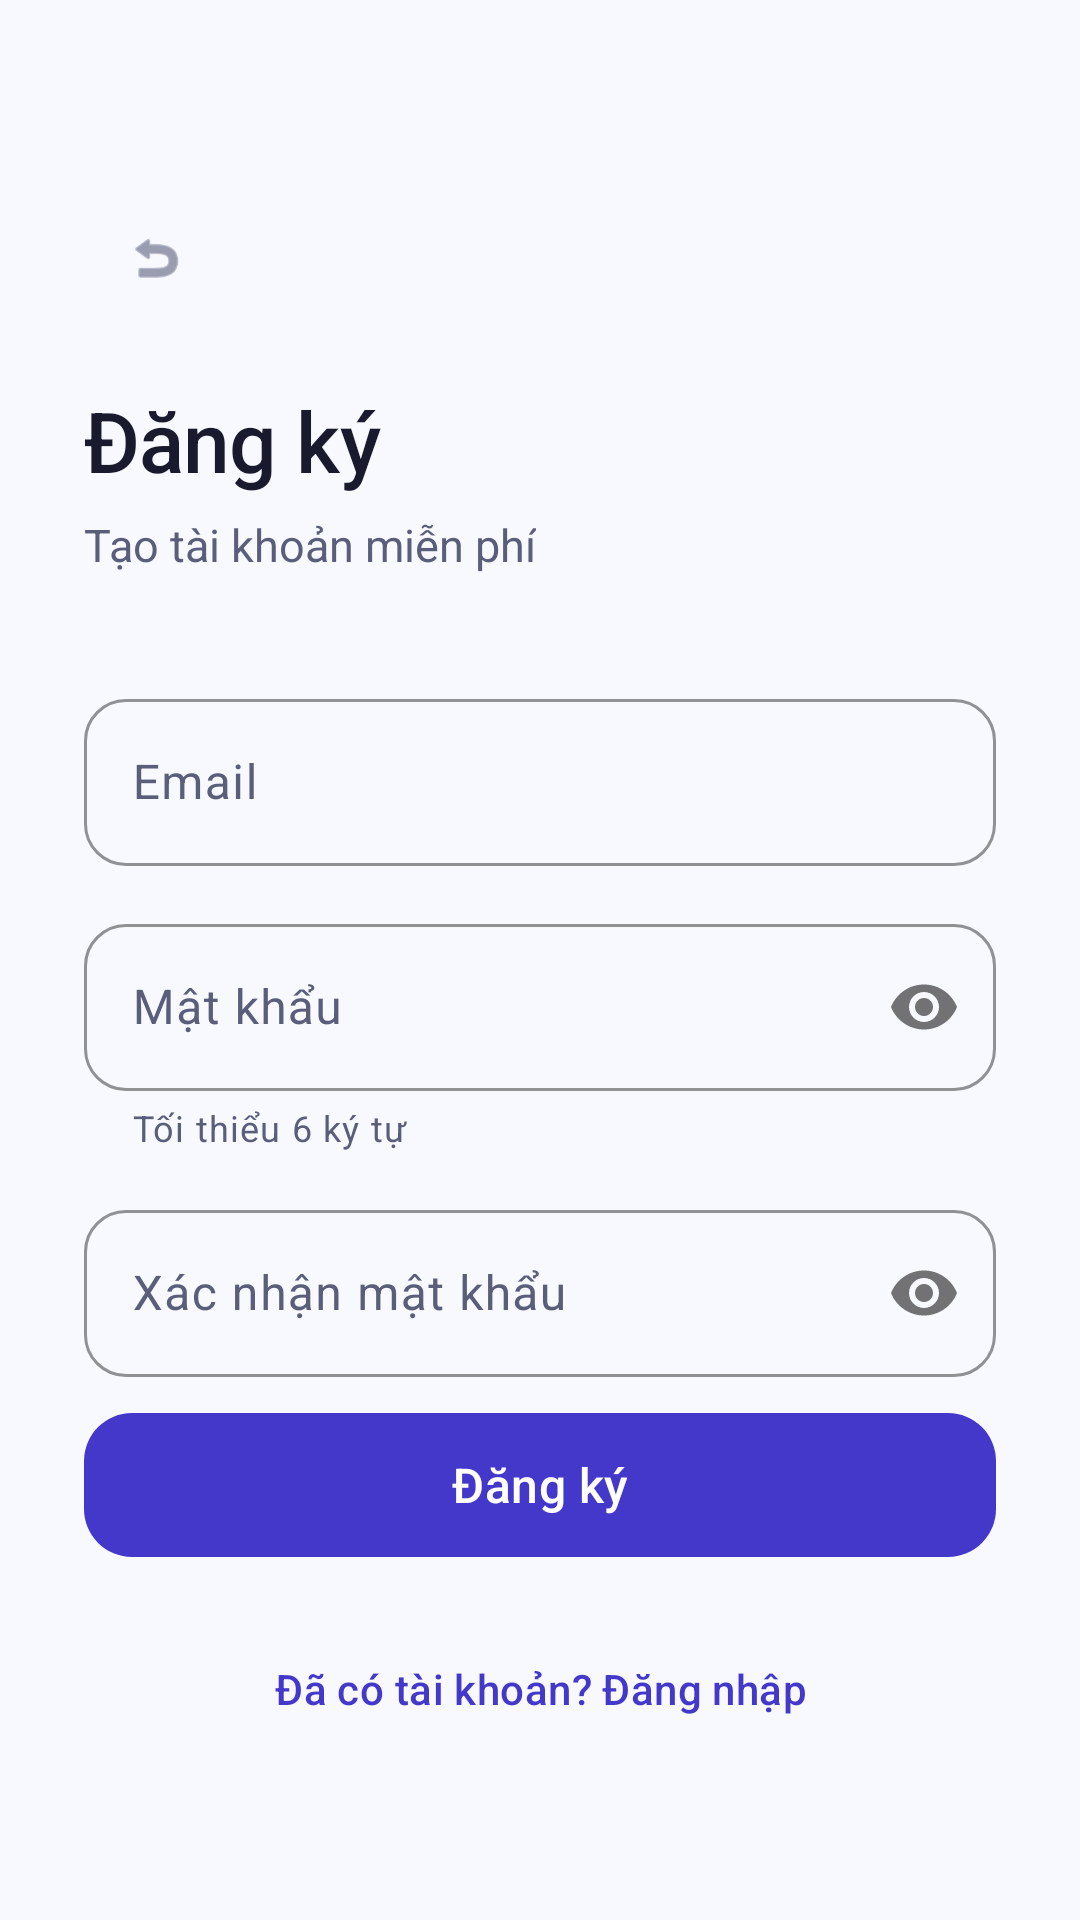

Icons on this 1080 × 1920 Android screen, each with its box as (x1, y1, x2, y2):
revert: (135, 239, 178, 278)
